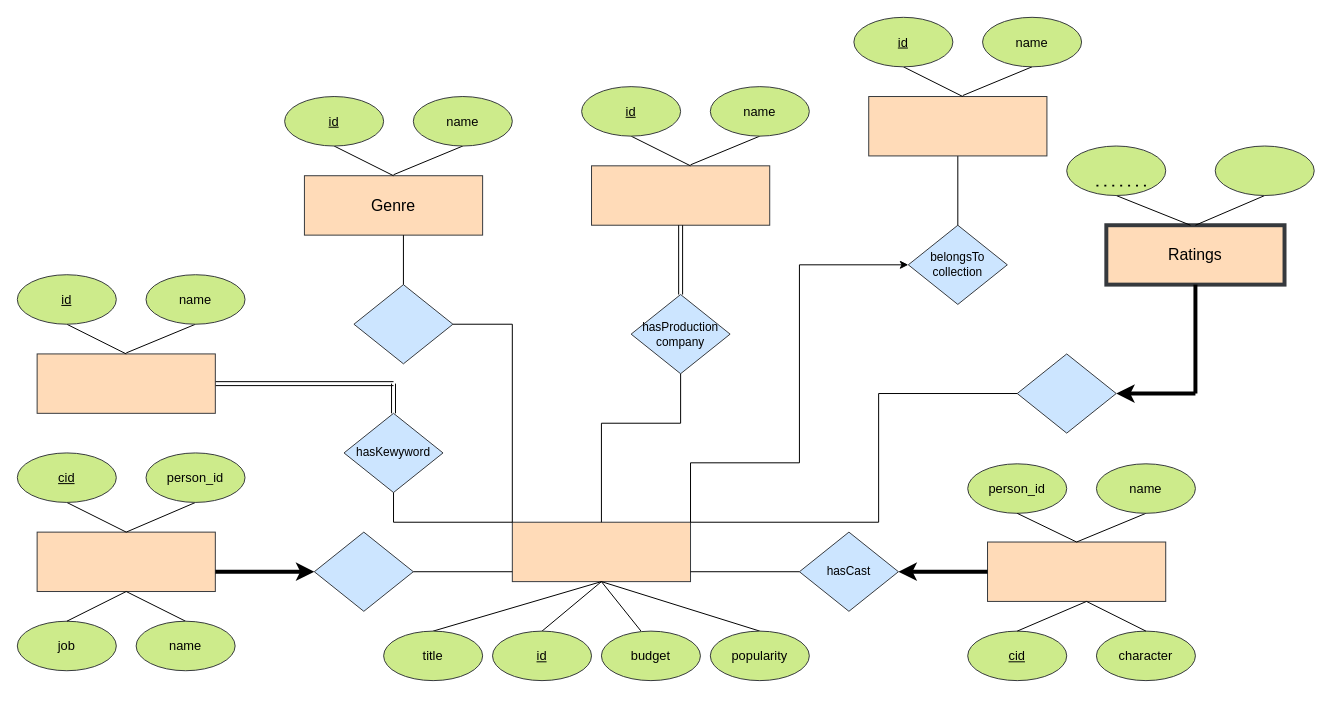
This 1332x706 diagram has some shape labels left out. The shapes that lost their labels are listed below. From the top down, each one's centre as x and y in pixels, then its label:
At point (957, 126): "Collection".
At point (1116, 170): "user_id".
At point (1264, 170): "rating".
At point (680, 195): "Production Company".
At point (403, 324): "hasGenre".
At point (125, 383): "Keyword".
At point (1066, 393): "hasRating".
At point (125, 561): "Movie Crew".
At point (363, 571): "hasCrew".
At point (601, 551): "Movie".
At point (1076, 571): "Movie Cast".
